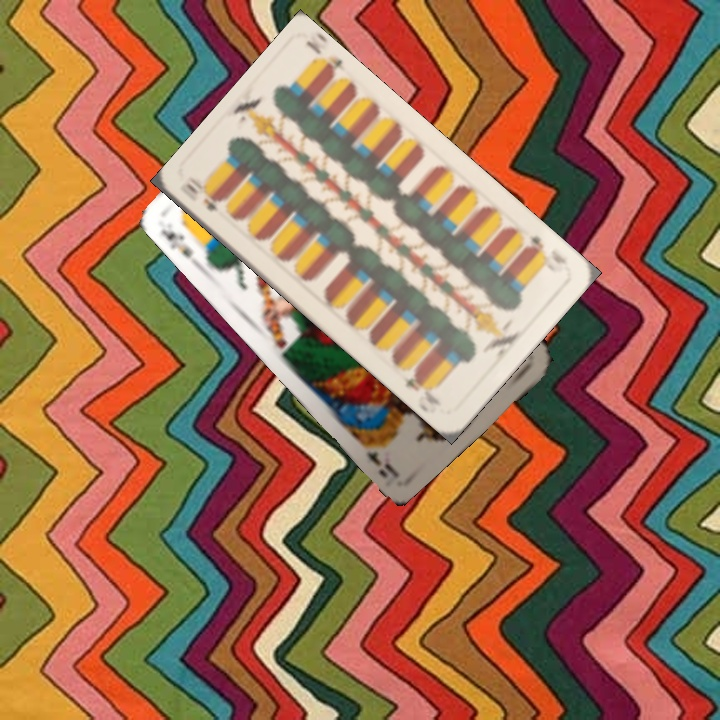E10: (181, 173, 223, 214), (521, 231, 554, 261)
EK: (156, 225, 196, 261)
